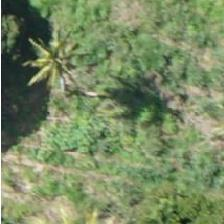coconut_tree: (20, 23, 110, 113)
